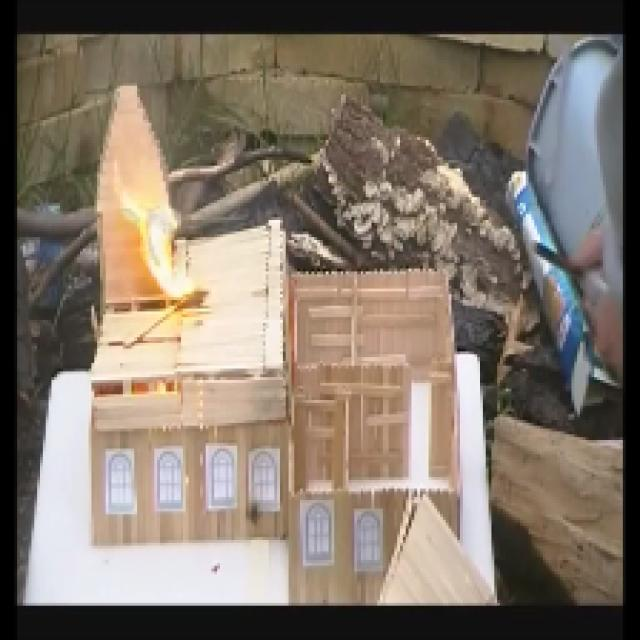Fire: (114, 176, 205, 323)
